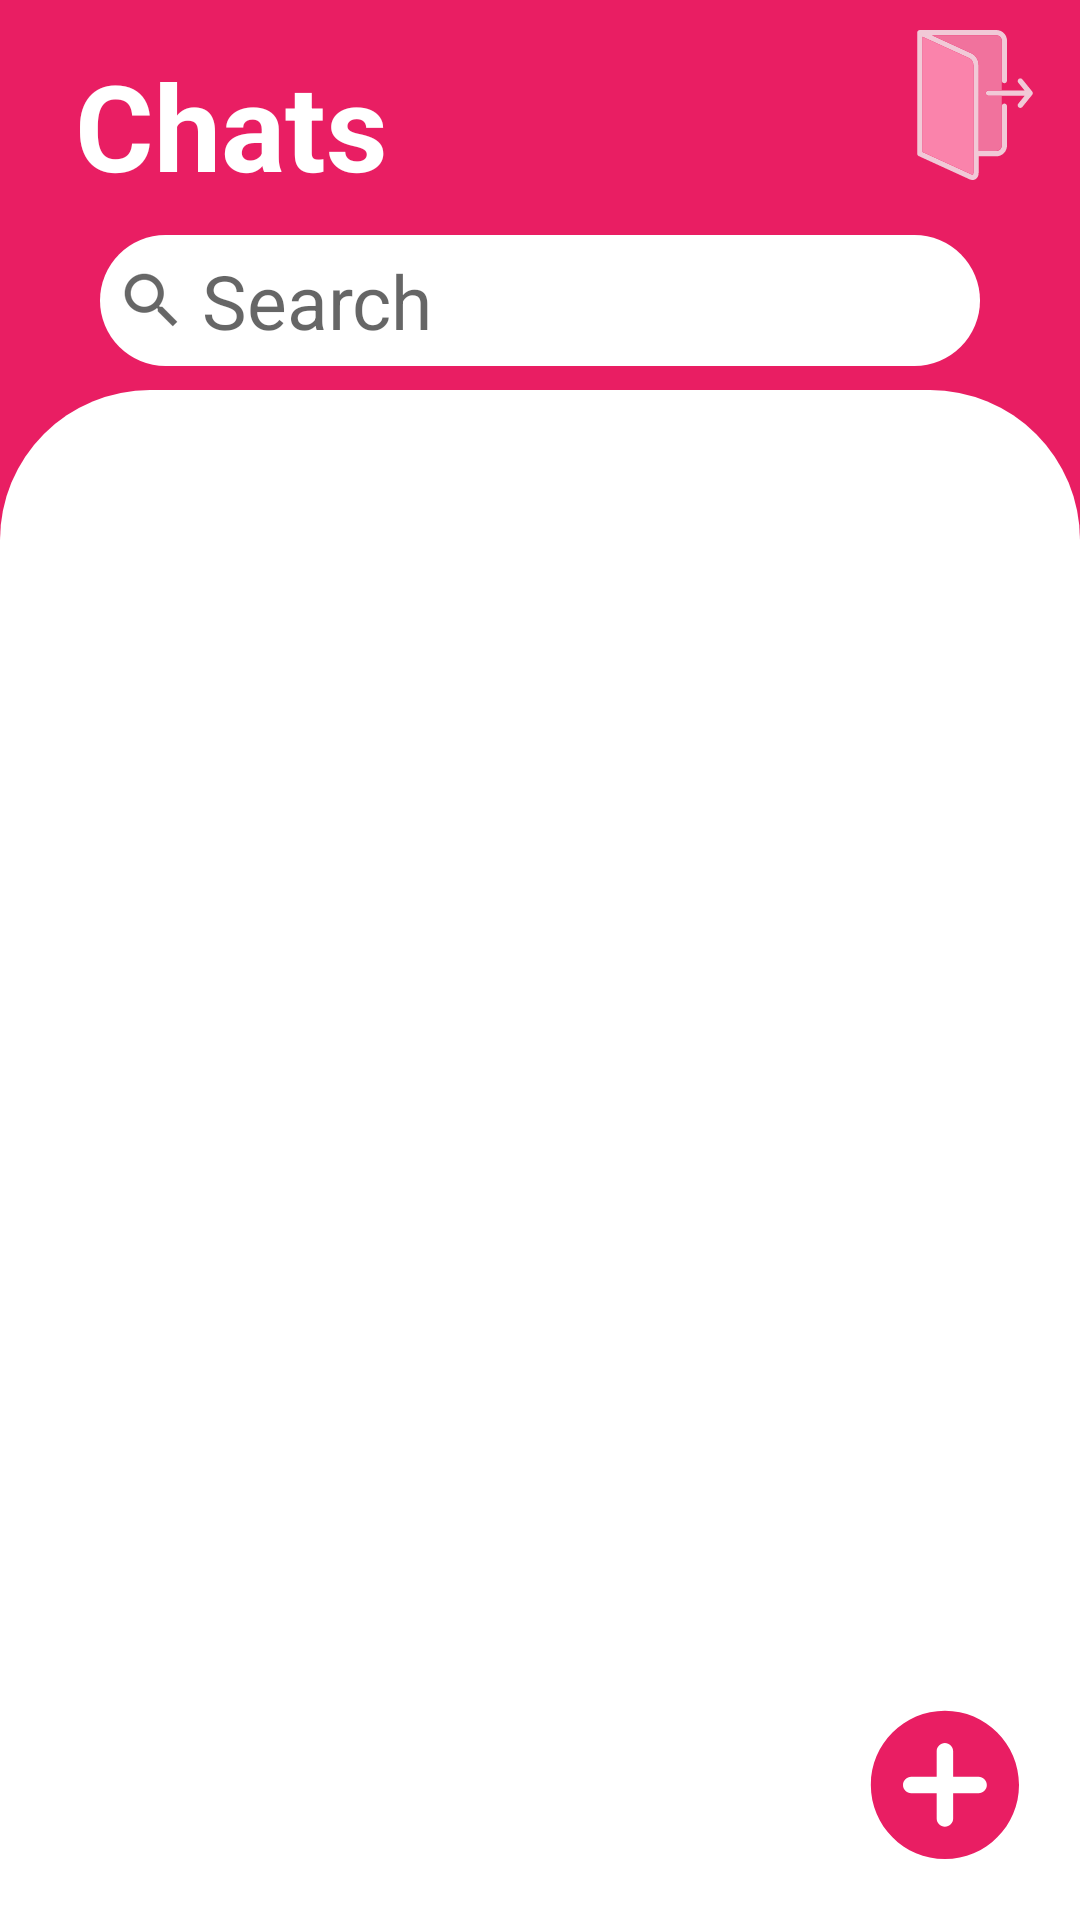

Icon click points for this 1080x1920 phone screenshot, format [x,y]:
add: [944,1784]
